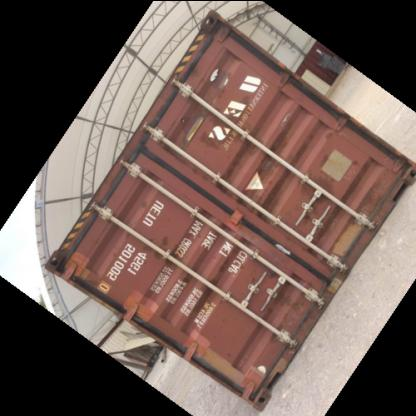Damage: (180, 70, 230, 122), (295, 168, 336, 218), (202, 106, 254, 144), (138, 231, 180, 266), (335, 216, 365, 264), (180, 268, 220, 301)
